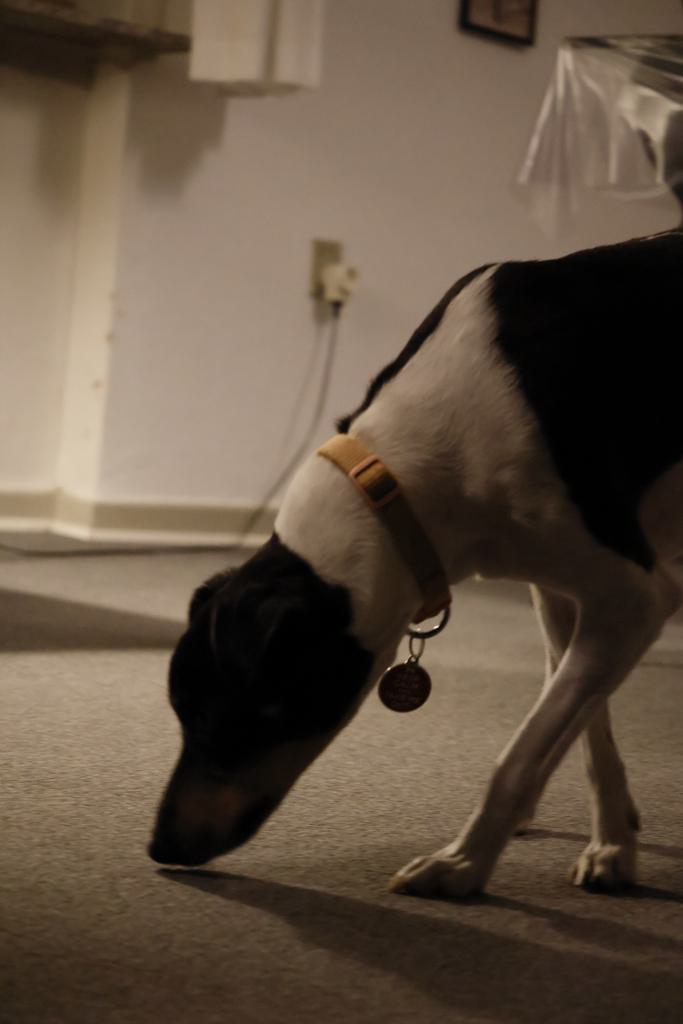Dog: (124, 200, 683, 922)
